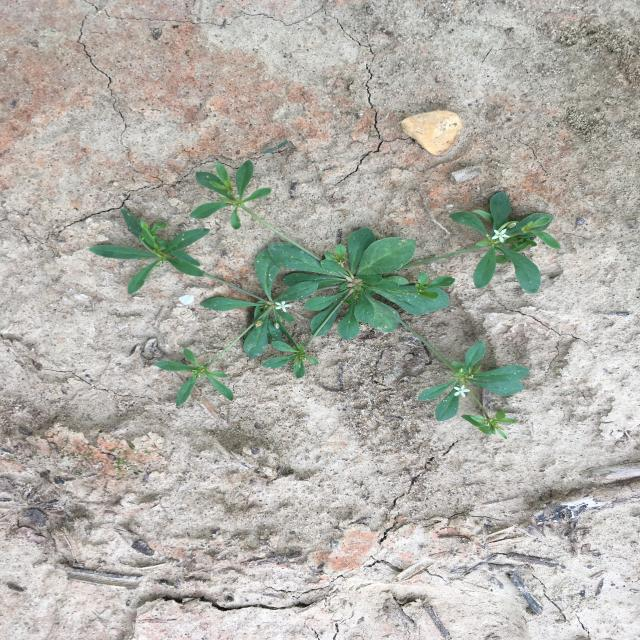Carpetweed: (88, 159, 561, 440)
